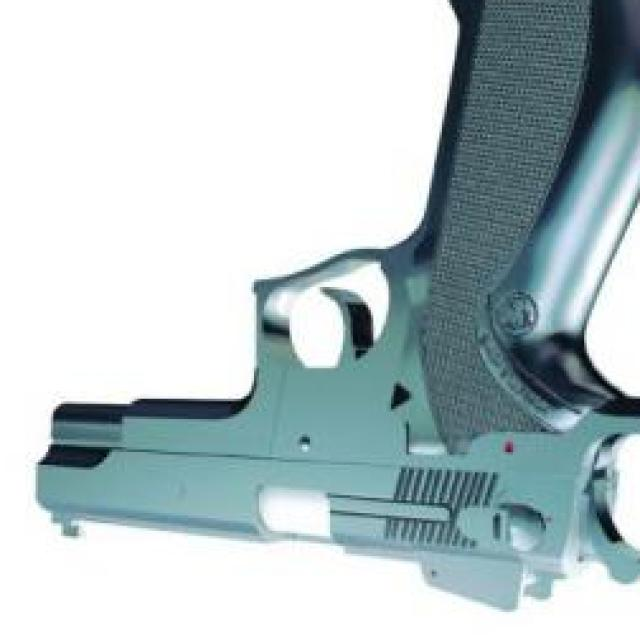pistol: (38, 0, 640, 610)
